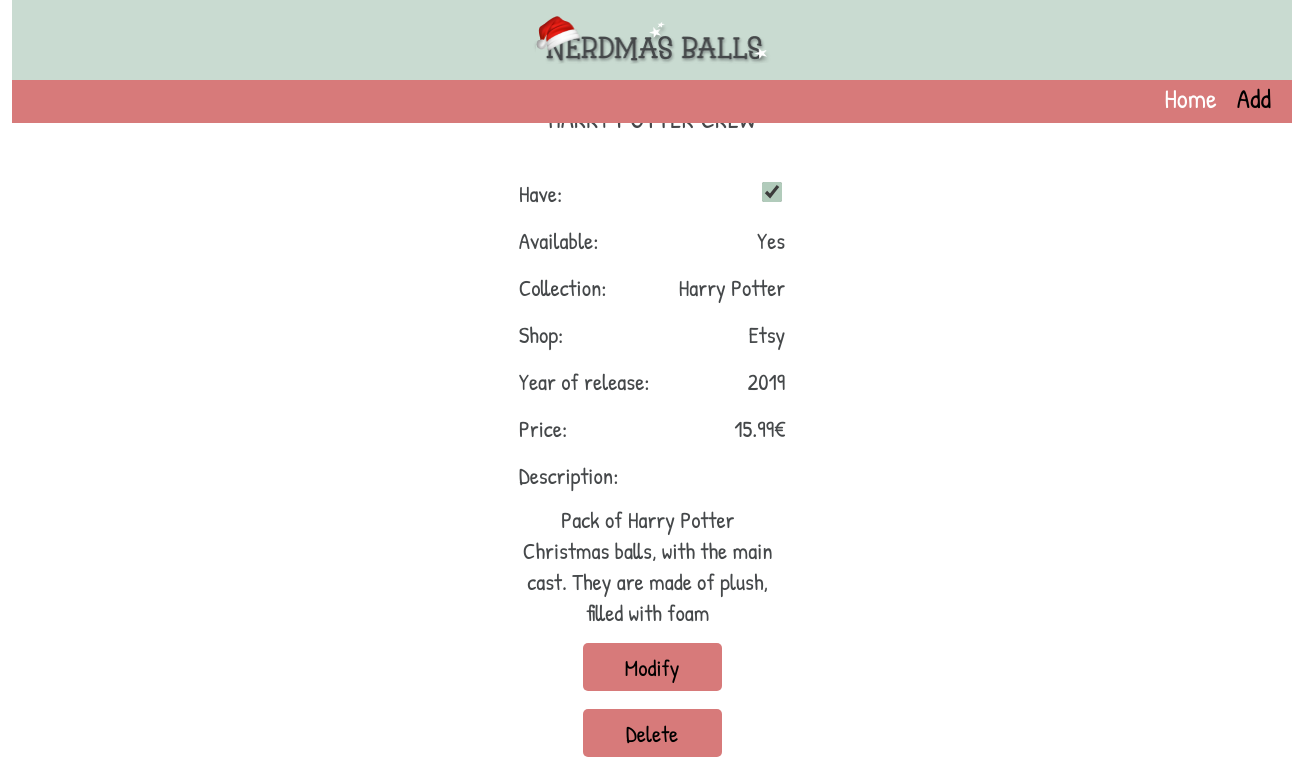
Test: Given an App component › When it is rendered on the detail page and the user clicks the 'Modify' button › Then it should navigate to the modify page
(page scrolled)
Click the button "Modify": coordinates (652, 667) top-left (582, 643), bottom-right (722, 691)
(page scrolled)
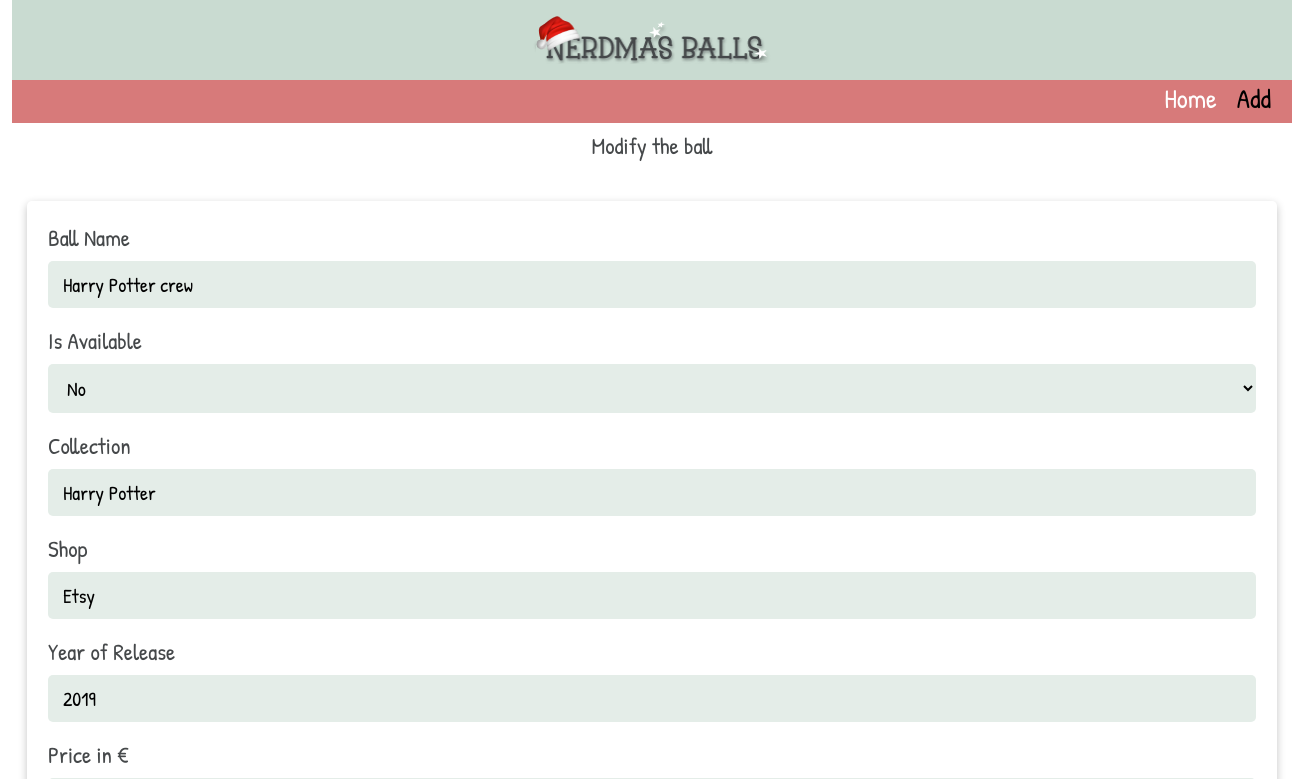
Result: the field labelled "Ball Name" is shown at top-left (48, 261), bottom-right (1256, 308)
